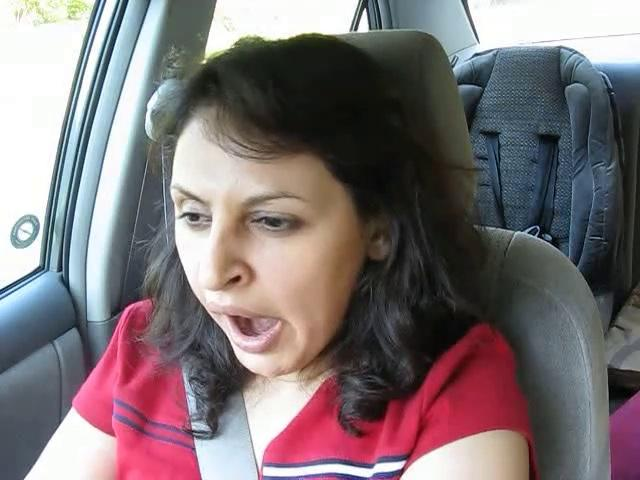open_eyeL: (168, 197, 221, 238)
open_eyeR: (233, 200, 316, 247)
yawn: (203, 295, 305, 362)
